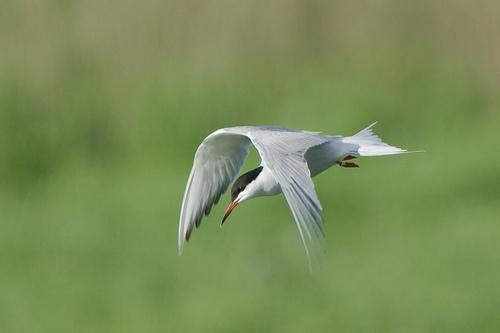bird: (174, 118, 416, 251)
